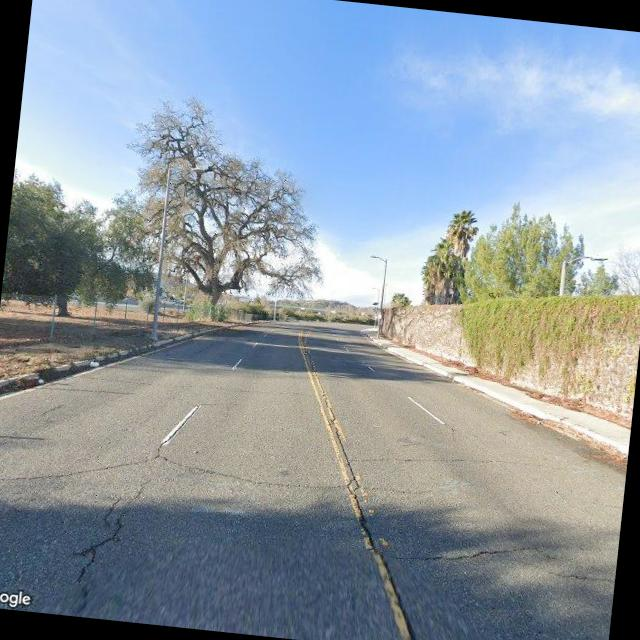crack: (286, 367, 442, 640), (0, 432, 430, 525), (385, 520, 614, 584), (62, 476, 150, 616), (347, 436, 538, 481), (152, 388, 206, 456)
